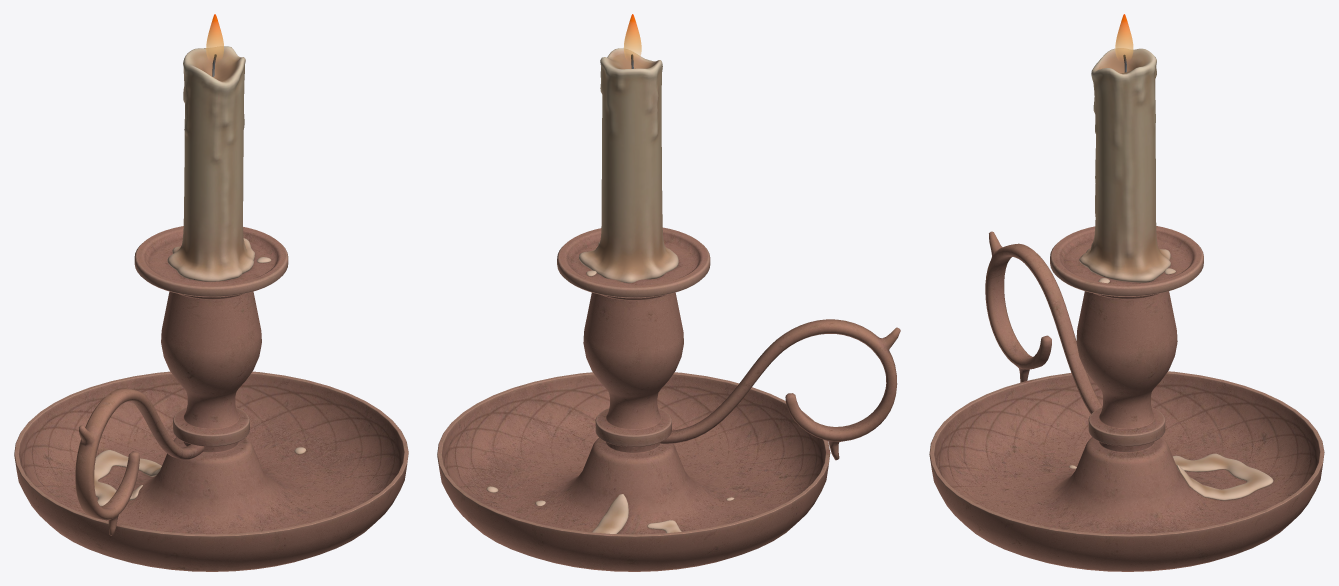
File: candle.glb
The picture shows the model from 3 angles, left to right: view 1: azimuth 30°, elevation 25°; view 2: azimuth 150°, elevation 25°; view 3: azimuth 270°, elevation 25°; orthographic projection.
Parts seen in each view (by area): view 1: Candlestick_0, Candle_1, Wax_3, Flame_4; view 2: Candlestick_0, Candle_1, Wax_3, Flame_4; view 3: Candlestick_0, Candle_1, Wax_3, Flame_4.
Part boxes in pixels (x1,y1,x2,y2): Candlestick_0: (14, 226, 408, 571); Candle_1: (167, 46, 254, 281); Wax_3: (94, 257, 306, 506); Flame_4: (206, 14, 223, 60); Candlestick_0: (437, 227, 900, 571); Candle_1: (579, 48, 678, 283); Wax_3: (486, 242, 734, 533); Flame_4: (623, 14, 641, 59); Candlestick_0: (929, 226, 1324, 571); Candle_1: (1079, 48, 1170, 282); Wax_3: (1069, 268, 1273, 500); Flame_4: (1115, 14, 1133, 60).
Bounding box in the file's own units: 0.1512 × 0.1924 × 0.1394.
2 materials, 2 textured.
